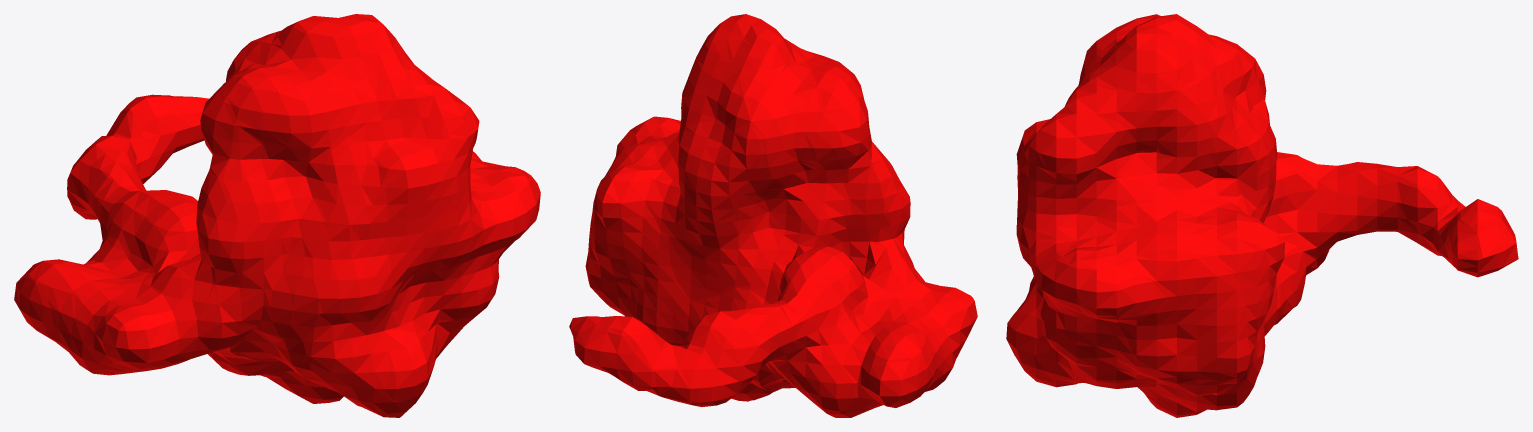
The model's file is gltA_coarse.dae.
The picture shows the model from 3 angles, left to right: view 1: azimuth 30°, elevation 25°; view 2: azimuth 150°, elevation 25°; view 3: azimuth 270°, elevation 25°; orthographic projection. The views are drawn at different scales.
Visible parts, largest first — view 1: gltA; view 2: gltA; view 3: gltA.
Boxes of the visible parts, bbox=[...] form: gltA: bbox=[14, 14, 540, 417]; gltA: bbox=[569, 14, 977, 417]; gltA: bbox=[1006, 14, 1518, 417].
Bounding box in the file's own units: 76.5 × 68.67 × 81.26.
